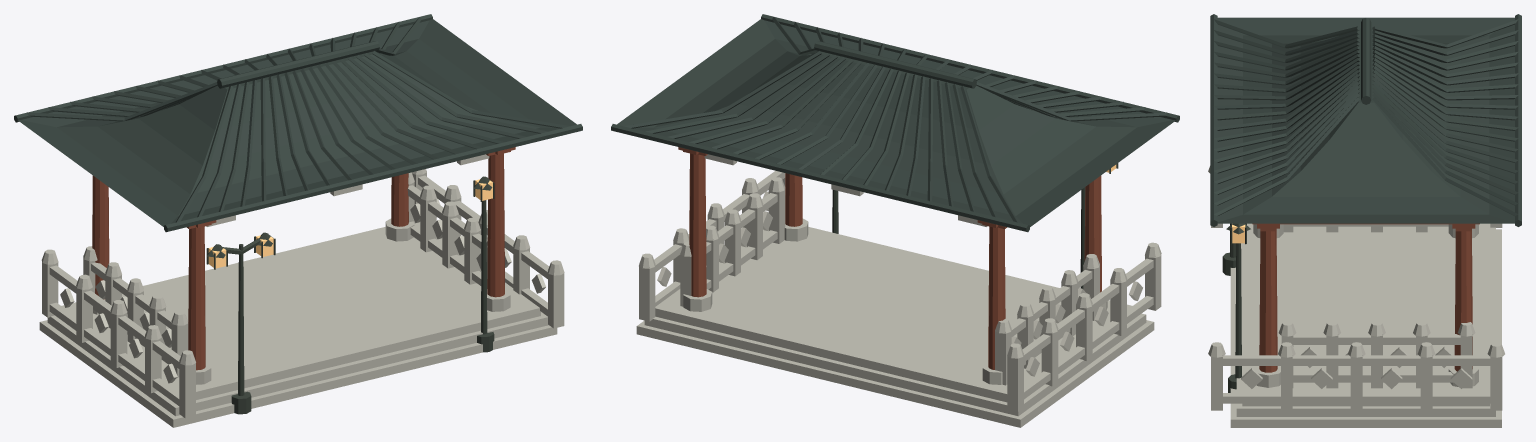
The model's file is baidi.glb.
The picture shows the model from 3 angles, left to right: view 1: azimuth 30°, elevation 25°; view 2: azimuth 150°, elevation 25°; view 3: azimuth 270°, elevation 25°; orthographic projection.
Visible parts, largest first — view 1: Limestone, Dark_Tile, Lacquered_Wood, Patinated_Iron, Emissive_WarmLamp; view 2: Limestone, Dark_Tile, Lacquered_Wood, Patinated_Iron; view 3: Dark_Tile, Limestone, Lacquered_Wood, Patinated_Iron.
Boxes of the visible parts, x1,y1,x2,y2 form: Limestone: (39,154,564,427); Dark_Tile: (14,14,582,232); Lacquered_Wood: (92,147,515,370); Patinated_Iron: (206,176,494,414); Emissive_WarmLamp: (208,179,492,268); Limestone: (636,154,1161,427); Dark_Tile: (611,14,1179,232); Lacquered_Wood: (678,147,1101,369); Patinated_Iron: (832,163,1118,288); Dark_Tile: (1210,14,1521,226); Limestone: (1208,166,1504,427); Lacquered_Wood: (1252,223,1479,372); Patinated_Iron: (1222,223,1250,392).
Size of the model in its own units: 7.36 by 4.61 by 4.74.
